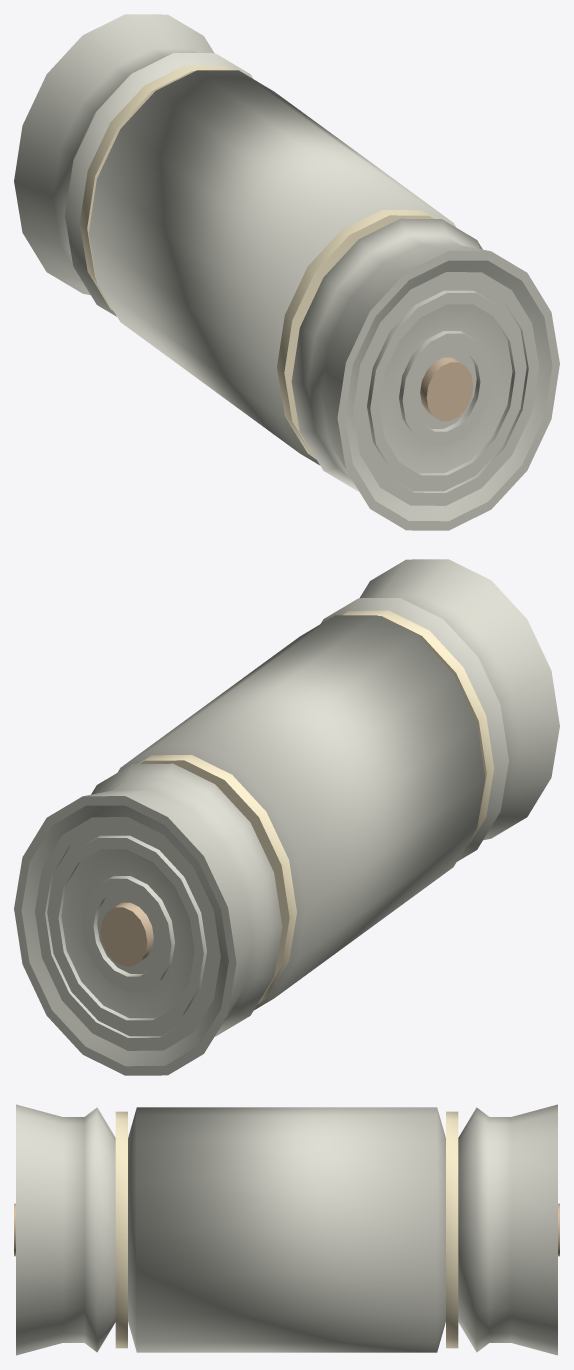
The model's file is Śpiwór.fbx.
The picture shows the model from 3 angles, top to bottom: view 1: azimuth 30°, elevation 25°; view 2: azimuth 150°, elevation 25°; view 3: azimuth 270°, elevation 25°; orthographic projection. The views are drawn at different scales.
Parts seen in each view (by area): view 1: żagiel; view 2: żagiel; view 3: żagiel.
Part boxes in pixels (x1,y1,x2,y2): żagiel: (14, 14, 559, 530); żagiel: (14, 559, 559, 1075); żagiel: (14, 1104, 559, 1355).
Bounding box in the file's own units: 105 × 126 × 267.
